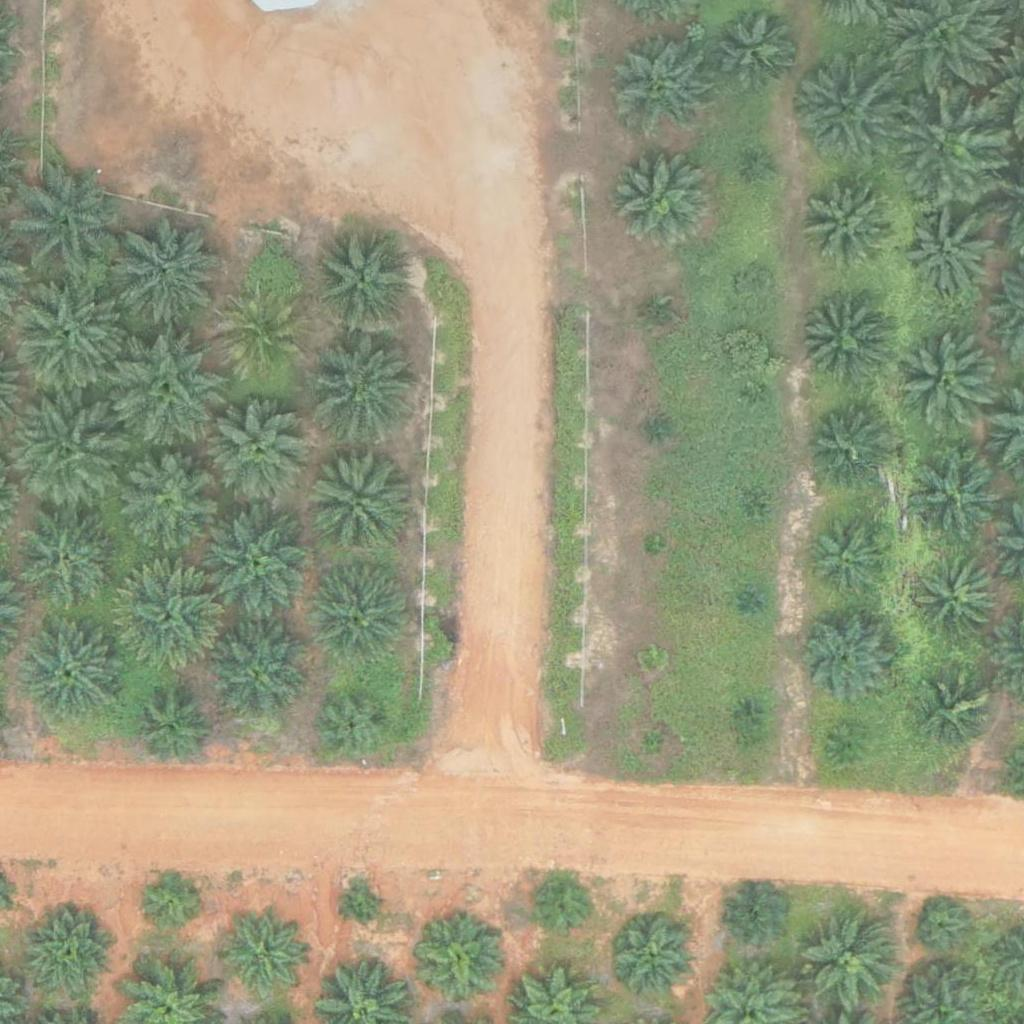Kelapa_Sawit: (790, 53, 903, 167), (114, 216, 227, 330), (112, 332, 225, 446), (12, 167, 125, 281), (201, 505, 314, 618), (893, 87, 1005, 201), (12, 273, 124, 387), (114, 566, 226, 679), (790, 602, 902, 715), (309, 331, 421, 444), (9, 398, 121, 511), (896, 332, 996, 433), (904, 444, 1004, 545), (611, 36, 711, 137), (609, 144, 709, 245), (311, 231, 411, 332), (208, 623, 308, 724), (17, 514, 117, 615), (21, 621, 121, 722), (801, 911, 901, 1012), (306, 451, 406, 551), (311, 565, 411, 665), (212, 404, 312, 504), (118, 454, 218, 554), (808, 513, 896, 602), (805, 405, 893, 493), (914, 557, 1002, 645), (217, 294, 305, 382), (219, 912, 307, 1000), (611, 916, 699, 1004), (906, 210, 993, 298), (806, 177, 893, 265), (799, 299, 886, 387), (712, 6, 799, 94), (31, 909, 118, 997), (418, 921, 505, 1009), (317, 687, 392, 763), (921, 675, 996, 750), (135, 693, 210, 768), (723, 886, 786, 949), (138, 867, 200, 930), (533, 879, 595, 942), (918, 903, 968, 953), (737, 269, 775, 307), (830, 724, 868, 762), (345, 887, 382, 925), (750, 154, 775, 179), (746, 384, 771, 409), (740, 500, 765, 525), (646, 304, 671, 329), (646, 417, 671, 442), (642, 535, 667, 560), (638, 647, 663, 672), (641, 731, 666, 756), (741, 589, 766, 614), (734, 699, 759, 724)
